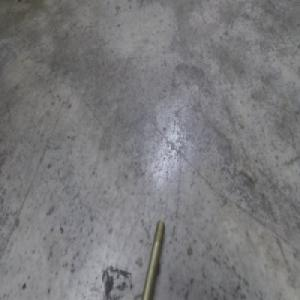Bolt: (141, 221, 164, 300)
